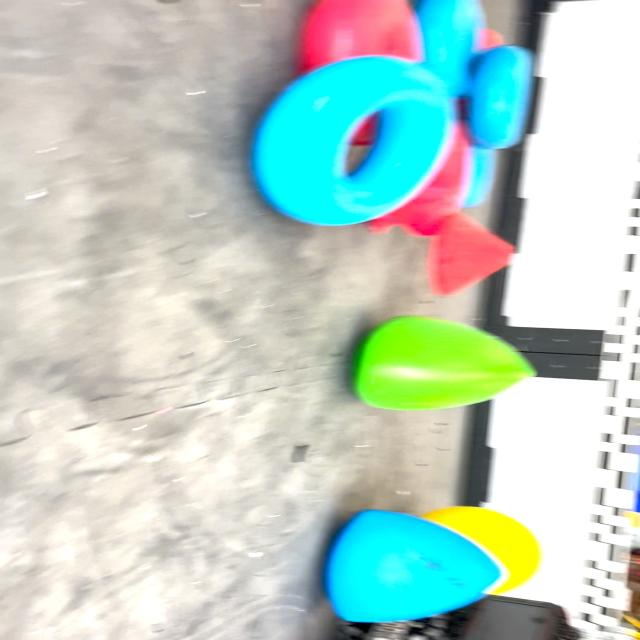Blue-Ring: (253, 56, 456, 225), (416, 0, 484, 98), (469, 46, 533, 149)
Red-Ring: (300, 0, 422, 71)
